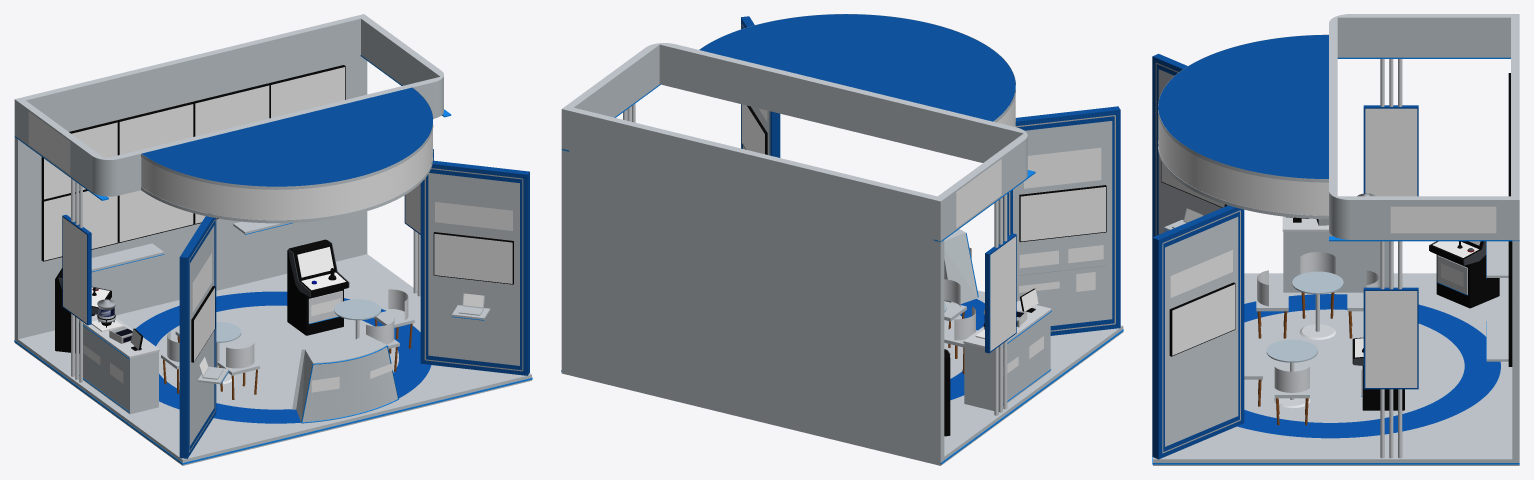
The model's file is Stand_15288_Complete_R6.obj.
3 views of the same model, side by side, from view 1: azimuth 30°, elevation 25°; view 2: azimuth 150°, elevation 25°; view 3: azimuth 270°, elevation 25° (orthographic). The views are drawn at different scales.
Parts seen in each view (by area): view 1: Stand_15288_Complete_R6_208, Stand_15288_Complete_R6_77, Stand_15288_Complete_R6_203, Stand_15288_Complete_R6_66, Stand_15288_Complete_R6_153, Stand_15288_Complete_R6_72, Stand_15288_Complete_R6_120, Stand_15288_Complete_R6_204, Stand_15288_Complete_R6_154, Stand_15288_Complete_R6_23, Stand_15288_Complete_R6_182, Stand_15288_Complete_R6_146 (+25 smaller); view 2: Stand_15288_Complete_R6_203, Stand_15288_Complete_R6_77, Stand_15288_Complete_R6_66, Stand_15288_Complete_R6_168, Stand_15288_Complete_R6_208, Stand_15288_Complete_R6_23, Stand_15288_Complete_R6_182, Stand_15288_Complete_R6_161, Stand_15288_Complete_R6_127, Stand_15288_Complete_R6_163, Stand_15288_Complete_R6_74, Stand_15288_Complete_R6_120 (+9 smaller); view 3: Stand_15288_Complete_R6_208, Stand_15288_Complete_R6_66, Stand_15288_Complete_R6_77, Stand_15288_Complete_R6_140, Stand_15288_Complete_R6_204, Stand_15288_Complete_R6_154, Stand_15288_Complete_R6_72, Stand_15288_Complete_R6_122, Stand_15288_Complete_R6_128, Stand_15288_Complete_R6_23, Stand_15288_Complete_R6_73, Stand_15288_Complete_R6_133 (+30 smaller).
Boxes of the visible parts, box(x1,y1,x2,y2) form: Stand_15288_Complete_R6_208: box(14, 254, 531, 465); Stand_15288_Complete_R6_77: box(14, 14, 443, 196); Stand_15288_Complete_R6_203: box(14, 55, 367, 339); Stand_15288_Complete_R6_66: box(142, 87, 432, 186); Stand_15288_Complete_R6_153: box(428, 173, 519, 365); Stand_15288_Complete_R6_72: box(141, 125, 432, 220); Stand_15288_Complete_R6_120: box(292, 334, 397, 423); Stand_15288_Complete_R6_204: box(135, 291, 431, 423); Stand_15288_Complete_R6_154: box(420, 160, 529, 375); Stand_15288_Complete_R6_23: box(83, 326, 158, 414); Stand_15288_Complete_R6_182: box(179, 213, 216, 458); Stand_15288_Complete_R6_146: box(434, 233, 512, 283); Stand_15288_Complete_R6_203: box(561, 150, 944, 459); Stand_15288_Complete_R6_77: box(561, 43, 1027, 240); Stand_15288_Complete_R6_66: box(699, 14, 1015, 121); Stand_15288_Complete_R6_168: box(1013, 121, 1112, 325); Stand_15288_Complete_R6_208: box(561, 290, 1123, 465); Stand_15288_Complete_R6_23: box(964, 312, 1050, 410); Stand_15288_Complete_R6_182: box(1003, 106, 1120, 335); Stand_15288_Complete_R6_161: box(1020, 187, 1105, 241); Stand_15288_Complete_R6_127: box(990, 236, 1015, 351); Stand_15288_Complete_R6_163: box(1024, 147, 1101, 188); Stand_15288_Complete_R6_74: box(956, 159, 1001, 227); Stand_15288_Complete_R6_120: box(944, 229, 977, 304); Stand_15288_Complete_R6_208: box(1153, 273, 1519, 465); Stand_15288_Complete_R6_66: box(1158, 35, 1328, 178); Stand_15288_Complete_R6_77: box(1329, 14, 1519, 239); Stand_15288_Complete_R6_140: box(1165, 217, 1238, 446); Stand_15288_Complete_R6_204: box(1237, 294, 1500, 438); Stand_15288_Complete_R6_154: box(1152, 205, 1244, 459); Stand_15288_Complete_R6_72: box(1158, 110, 1328, 215); Stand_15288_Complete_R6_122: box(1365, 291, 1417, 387); Stand_15288_Complete_R6_128: box(1365, 108, 1417, 196); Stand_15288_Complete_R6_23: box(1283, 231, 1393, 292); Stand_15288_Complete_R6_73: box(1390, 206, 1496, 233); Stand_15288_Complete_R6_133: box(1172, 284, 1234, 355).
Size of the model in its own units: 602 by 400 by 501.
